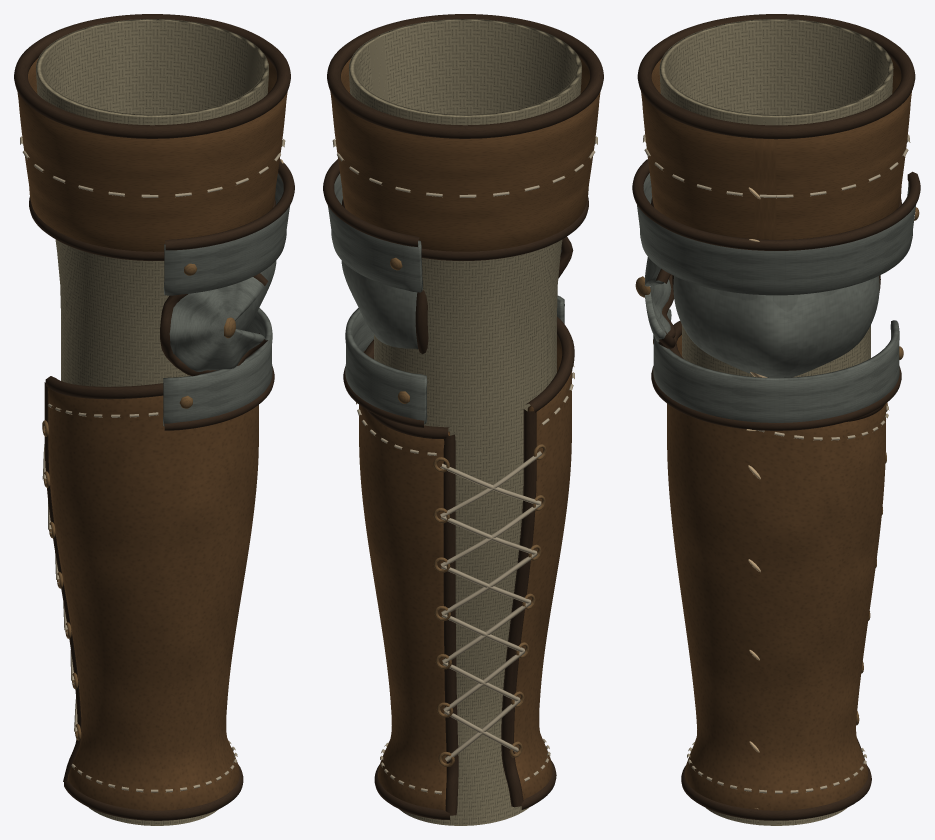
3 views of the same model, side by side, from view 1: azimuth 30°, elevation 25°; view 2: azimuth 150°, elevation 25°; view 3: azimuth 270°, elevation 25° (orthographic).
Parts seen in each view (by area): view 1: tanned leather, quilted linen lining, oiled strap leather, weathered plate, waxed linen thread, aged alloy edge; view 2: tanned leather, quilted linen lining, oiled strap leather, weathered plate, waxed linen thread, aged alloy edge; view 3: tanned leather, weathered plate, quilted linen lining, oiled strap leather, waxed linen thread.
Part boxes in pixels (x1,y1,x2,y2): tanned leather: (17, 58, 287, 810); quilted linen lining: (36, 19, 268, 825); oiled strap leather: (14, 14, 294, 820); weathered plate: (163, 173, 289, 426); waxed linen thread: (20, 136, 285, 792); aged alloy edge: (42, 263, 235, 740); tanned leather: (330, 58, 600, 810); quilted linen lining: (349, 19, 581, 825); oiled strap leather: (323, 14, 603, 820); weathered plate: (328, 173, 564, 424); waxed linen thread: (332, 136, 597, 794); aged alloy edge: (390, 257, 546, 766); tanned leather: (641, 58, 911, 810); weathered plate: (637, 173, 915, 422); quilted linen lining: (659, 19, 893, 825); oiled strap leather: (632, 14, 920, 820); waxed linen thread: (643, 134, 910, 793).
Size of the model in its own units: 0.1488 by 0.4258 by 0.1527.
7 materials, 6 textured.
